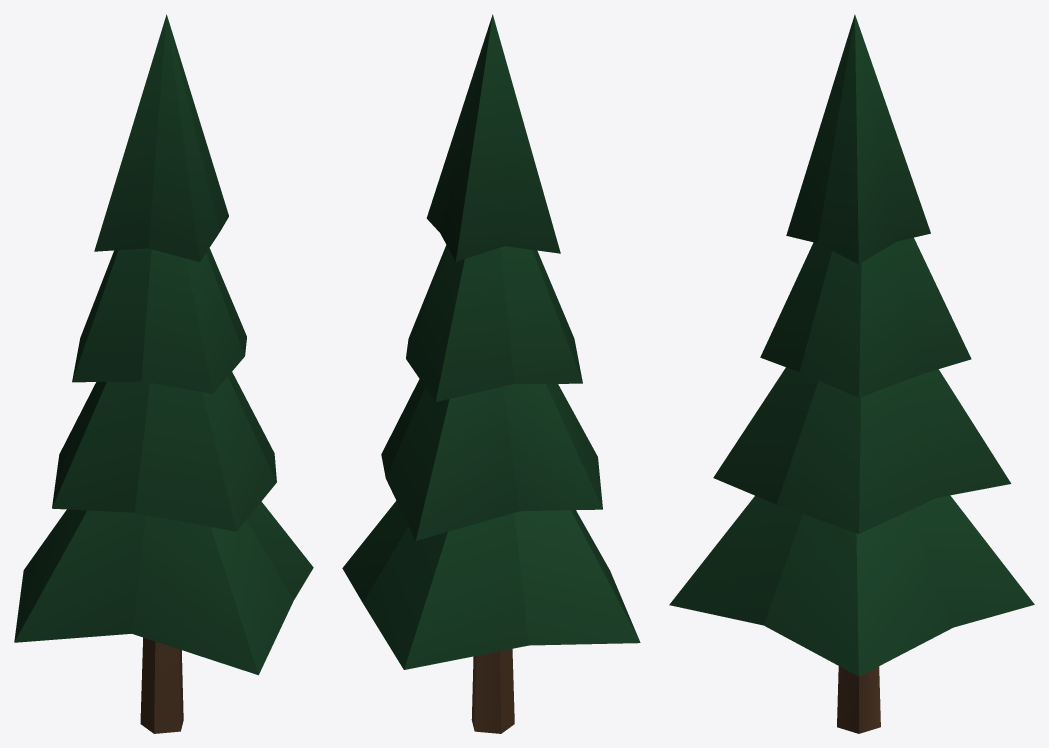
File: tree_pine_c_lod1.glb
The picture shows the model from 3 angles, left to right: view 1: azimuth 30°, elevation 25°; view 2: azimuth 150°, elevation 25°; view 3: azimuth 270°, elevation 25°; orthographic projection.
Visible parts, largest first — view 1: layer, layer.001, layer.002, layer.003, trunk; view 2: layer, layer.001, layer.002, layer.003, trunk; view 3: layer, layer.001, layer.002, layer.003, trunk.
Boxes of the visible parts, x1,y1,x2,y2 form: layer: (14,501,313,675); layer.001: (52,372,276,531); layer.002: (72,248,246,393); layer.003: (94,14,228,261); trunk: (140,637,183,733); layer: (342,501,640,669); layer.001: (381,379,602,540); layer.002: (406,245,582,401); layer.003: (426,14,560,261); trunk: (471,649,514,733); layer: (669,495,1034,676); layer.001: (713,367,1011,533); layer.002: (760,237,971,397); layer.003: (786,14,930,264); trunk: (837,666,880,733).
Size of the model in its own units: 2.38 by 5.42 by 2.53.
